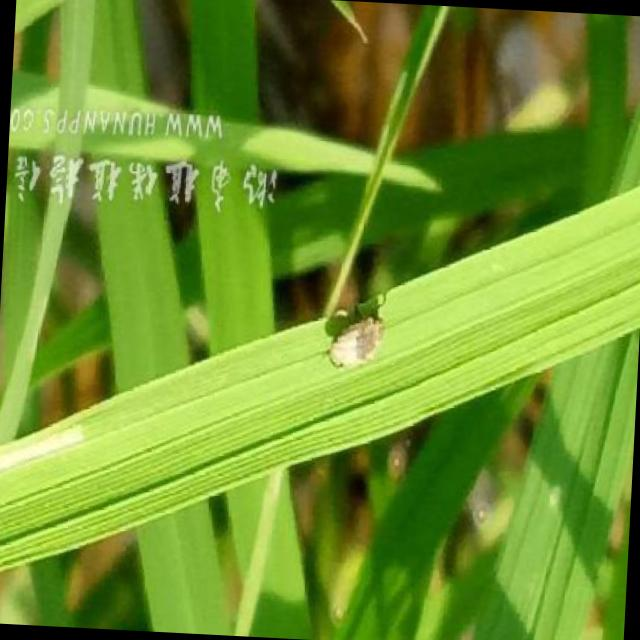rice-bug: (324, 296, 386, 377)
